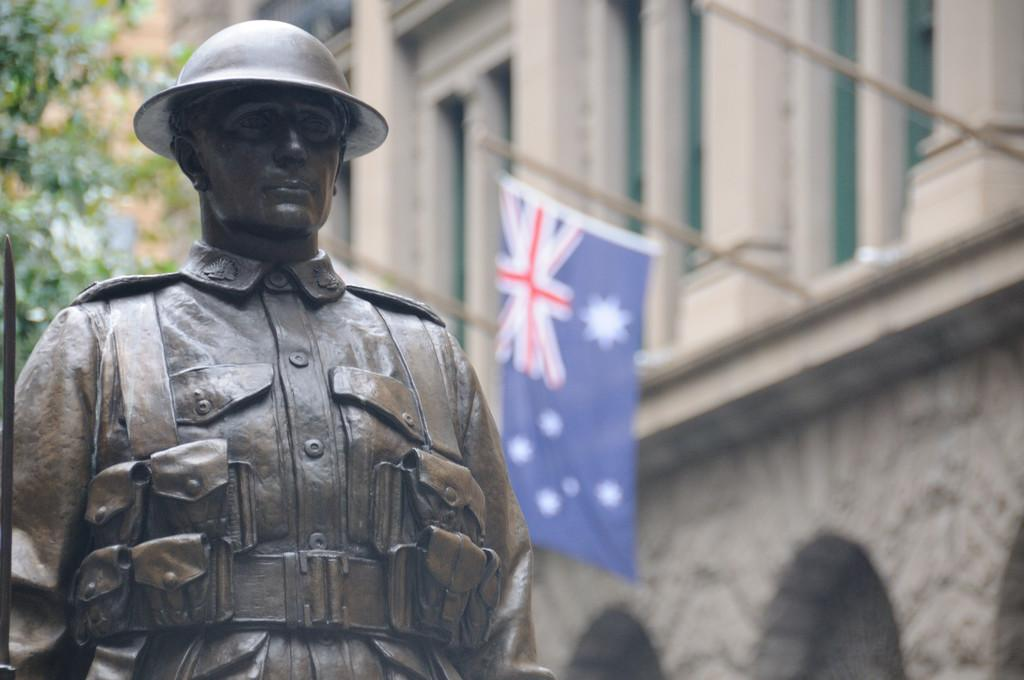Hat: (132, 19, 388, 162)
